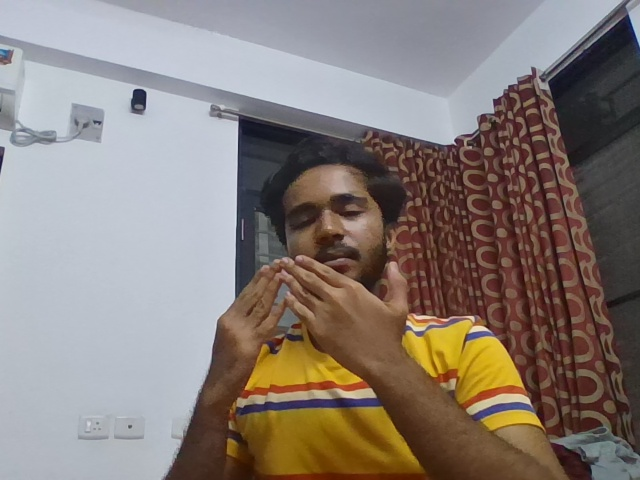Thank You: (181, 251, 440, 422)
